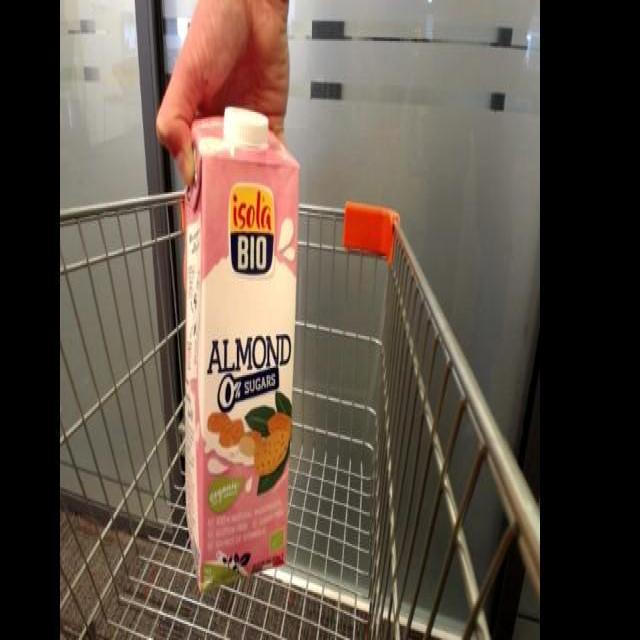Almond Milk: (180, 92, 306, 600)
